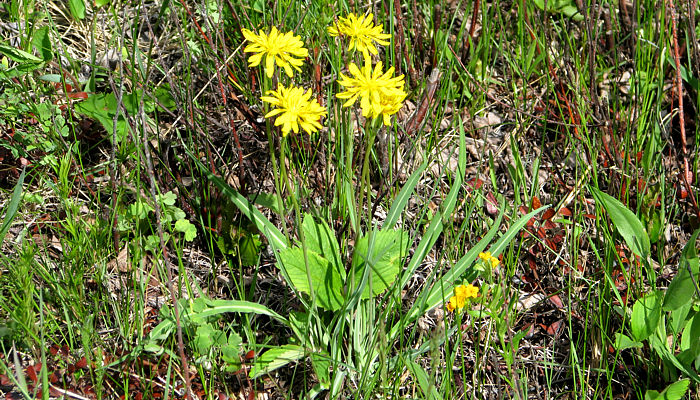dandelion: (333, 62, 423, 126), (240, 24, 311, 74), (265, 85, 330, 138), (332, 13, 399, 60)
